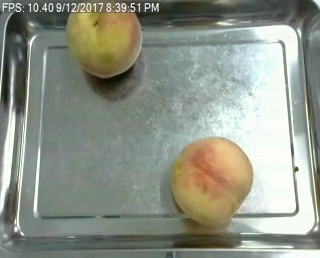Peach: (170, 135, 254, 228), (66, 0, 143, 77)
